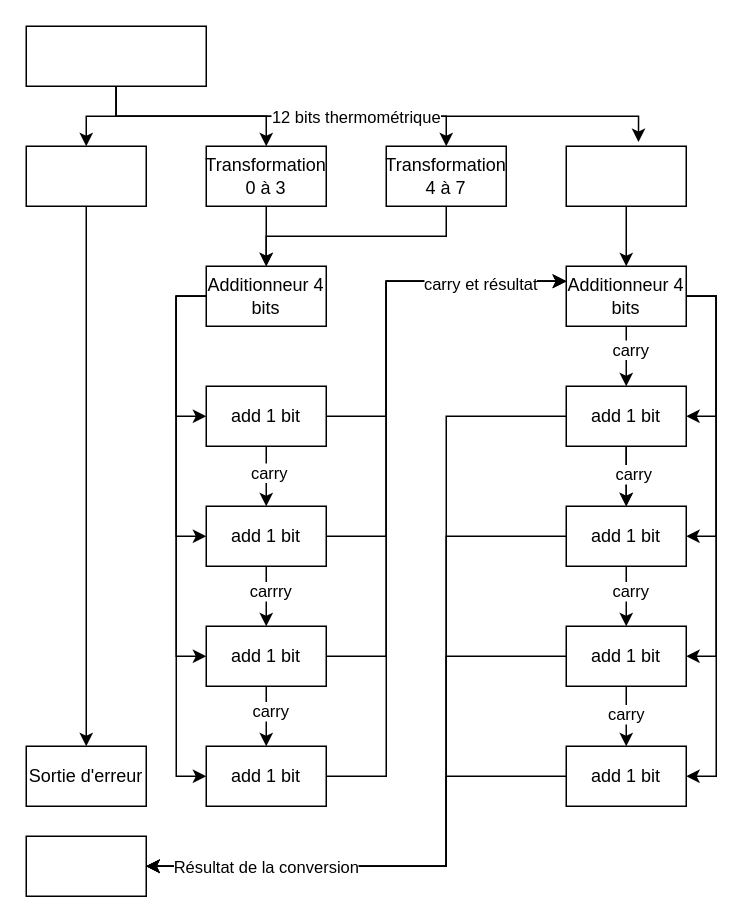
The diagram is 755 pixels wide and 923 high, and some of its shapes have lost their labels. The centre of each missing label's shape, as x and y in pixels:
ADCth: (115,55)
Calcul d'erreur: (85,175)
Sortie binaire 4 bits: (85,865)
Transformation 8 à 11: (625,175)
